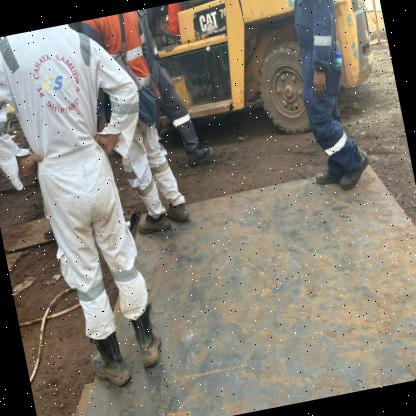bota: (80, 329, 135, 392), (122, 303, 167, 371), (332, 144, 374, 192), (134, 208, 173, 241), (183, 136, 216, 168), (310, 158, 342, 188), (163, 196, 190, 226)
